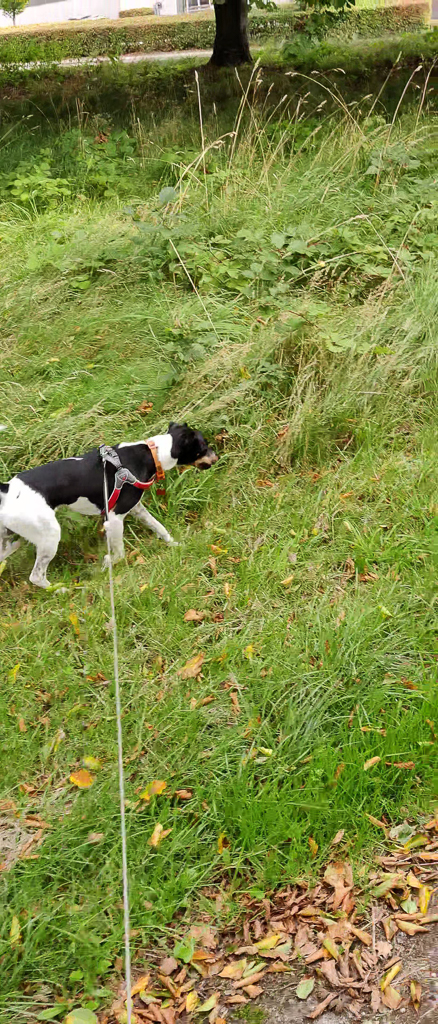Dog: (0, 395, 238, 612)
